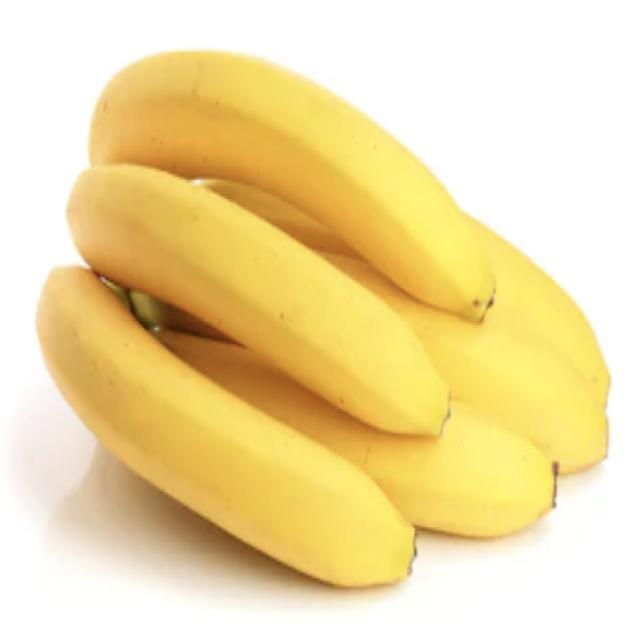Banana: (34, 42, 608, 593)
